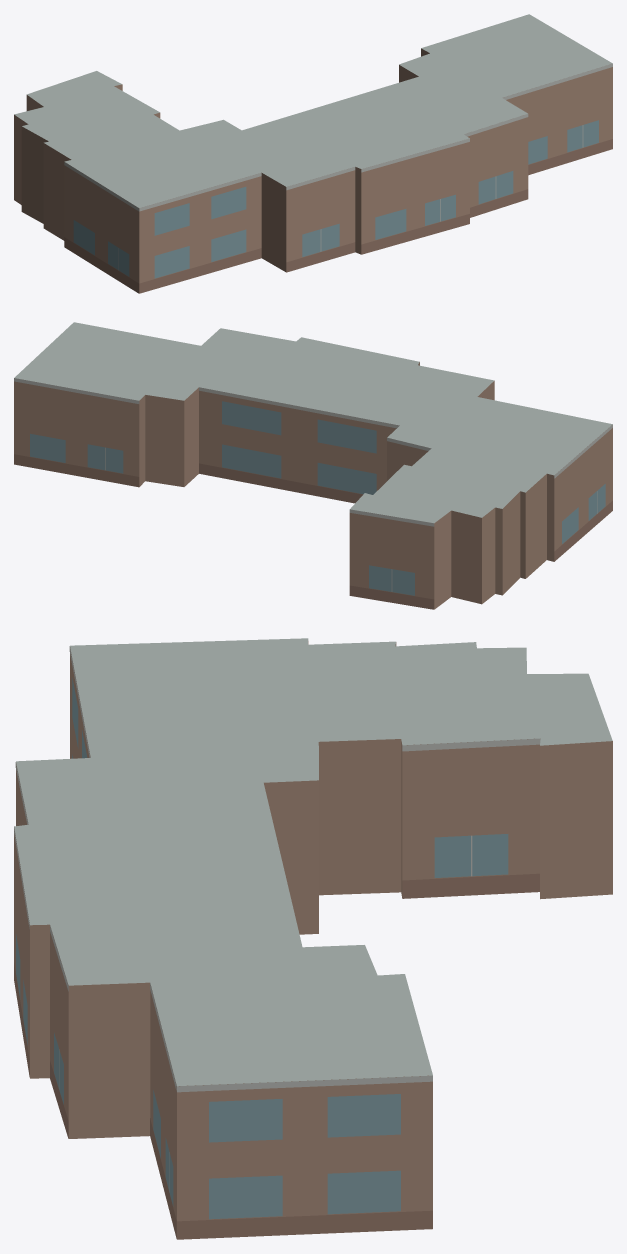
Rendered from survey-upis-32604239.glb.
3 views of the same model, one above another, from view 1: azimuth 30°, elevation 25°; view 2: azimuth 150°, elevation 25°; view 3: azimuth 270°, elevation 25° (orthographic). The views are drawn at different scales.
Parts seen in each view (by area): view 1: survey-upis-32604239.tmp; view 2: survey-upis-32604239.tmp; view 3: survey-upis-32604239.tmp.
Part boxes in pixels (box(x1,y1,x2,y2)): survey-upis-32604239.tmp: box(14, 14, 612, 293); survey-upis-32604239.tmp: box(14, 322, 612, 609); survey-upis-32604239.tmp: box(14, 638, 612, 1239).
Size of the model in its own units: 38.19 by 6.1 by 21.58.
